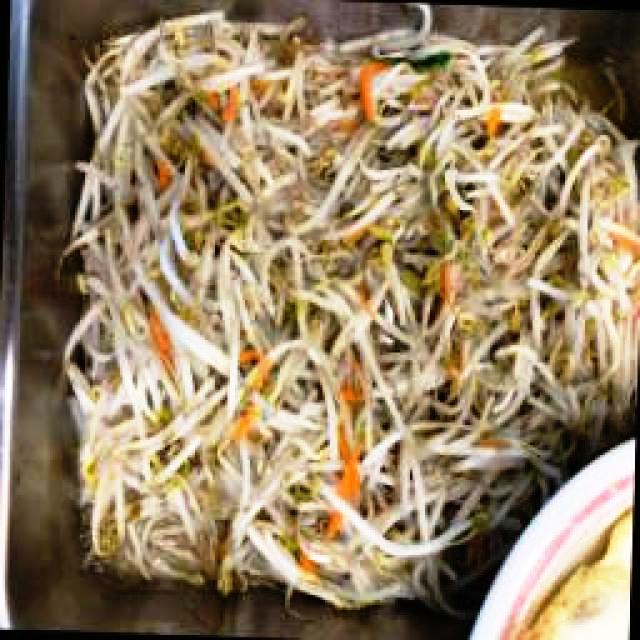mung_bean_sprouts: (83, 29, 482, 593), (482, 36, 638, 432)
